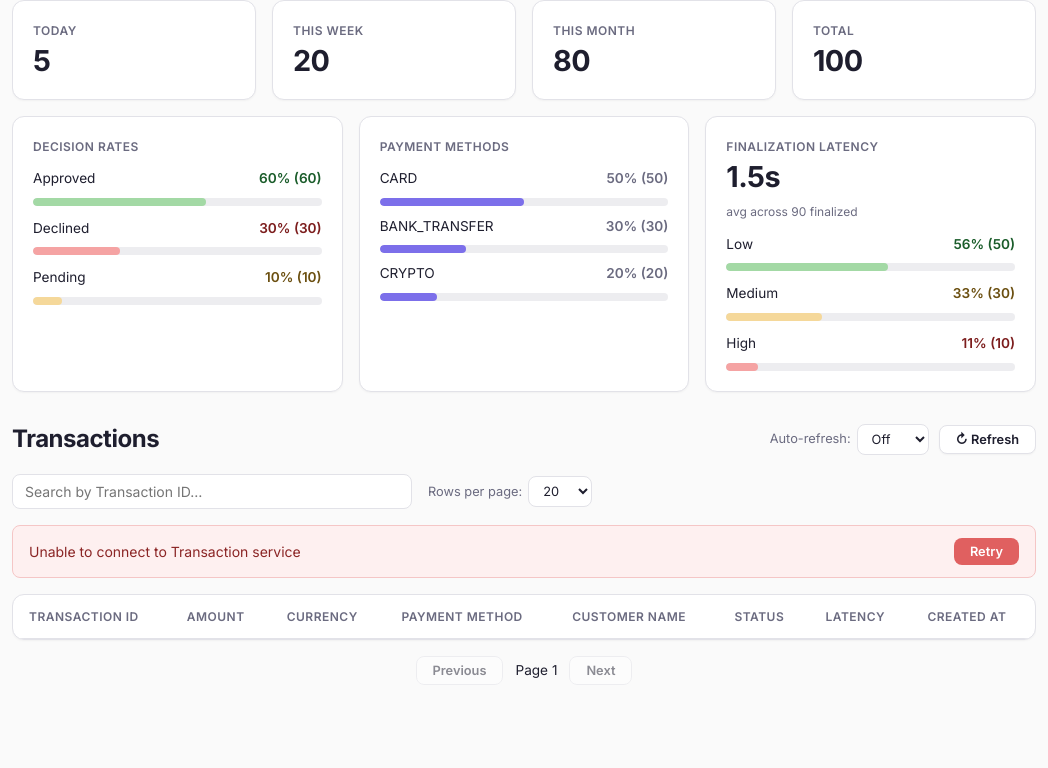
Test: TransactionList › retries fetch when retry button is clicked
The image size is (1048, 768).
expect the text "Unable to connect to Transaction service" is shown: met, box [29,541,301,563]
Click the button "Retry": (986, 552) [954,538,1019,565]
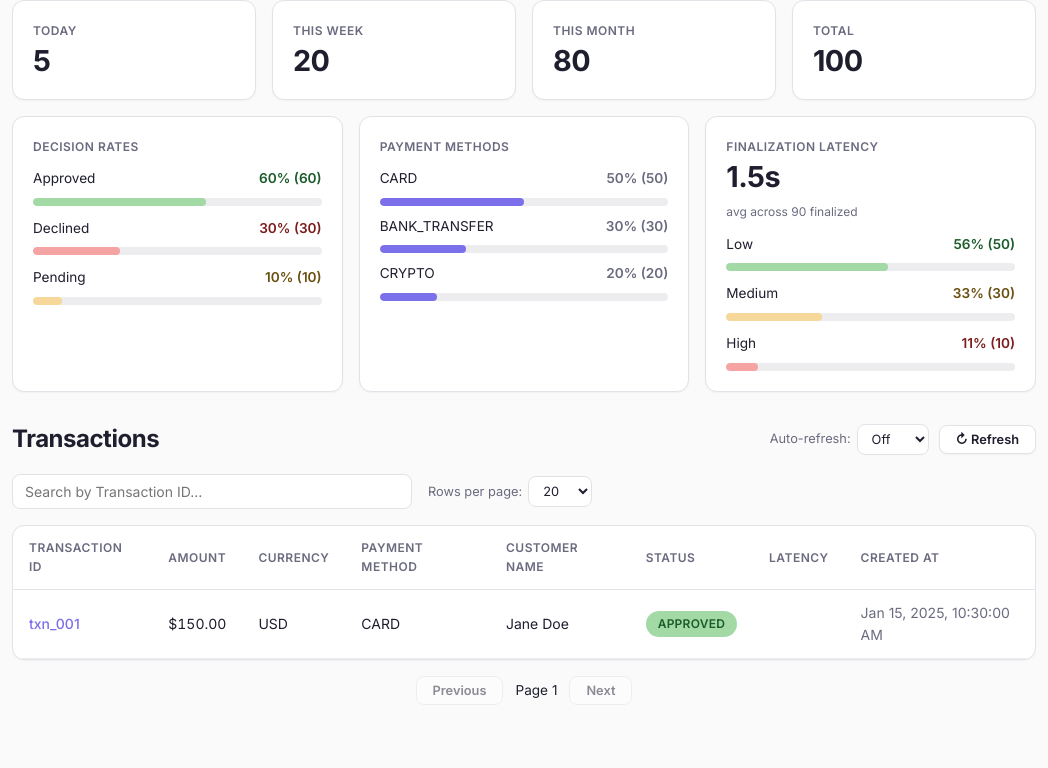
expect the link "txn_001" is shown: met, box [29,615,80,632]
